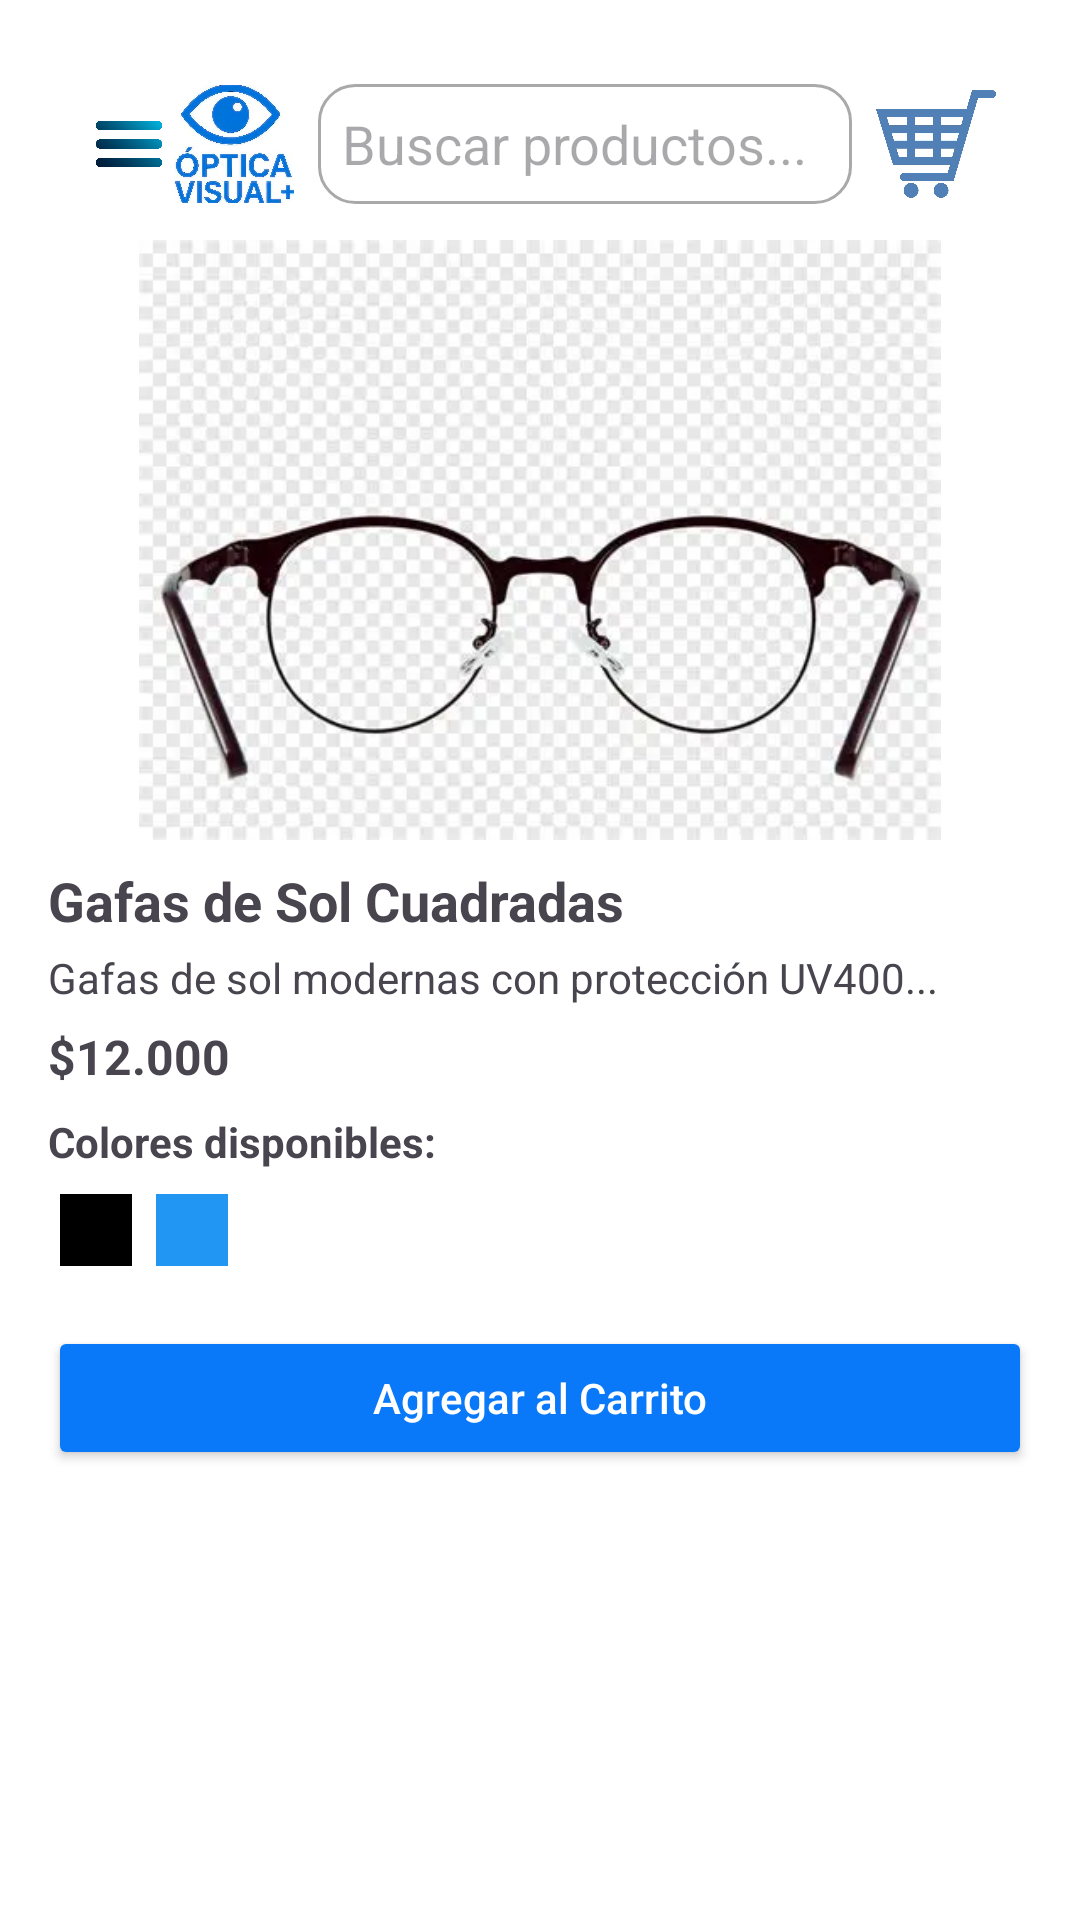

Point at icon controls on the screen. Image size 1080 x 1920, points as [x,y].
Carrito: [936,144]
menu: [129,144]
